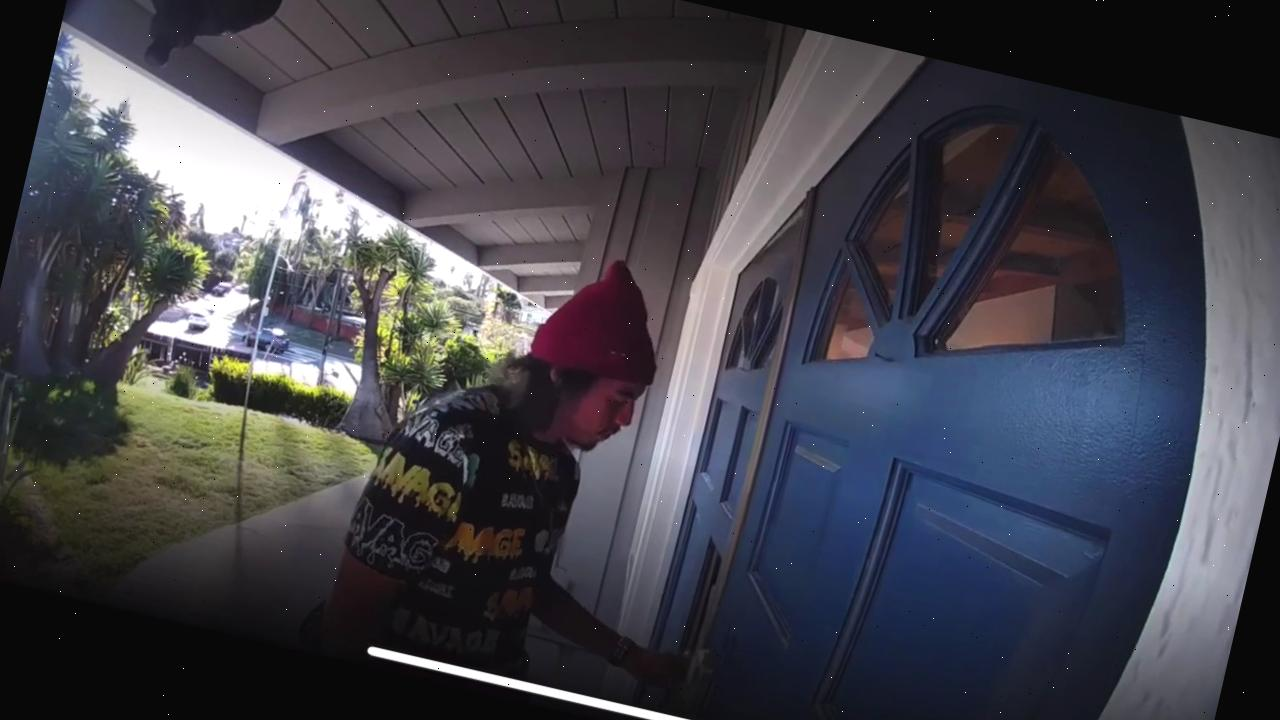suspicion: (301, 76, 853, 720)
